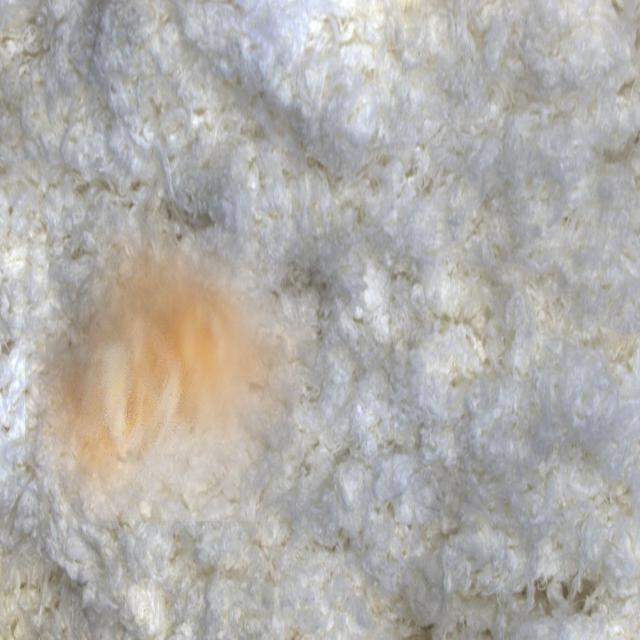dust: (25, 191, 322, 521)
